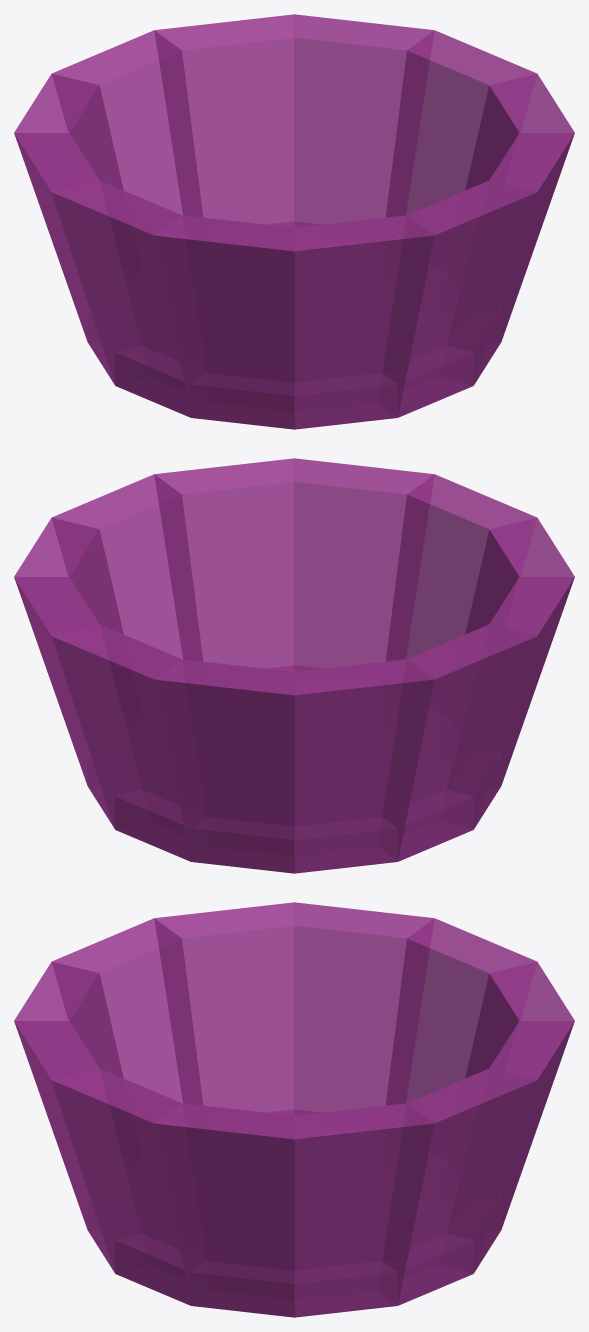
File: SM_Prop_Crows_Nest_03_Collision.fbx
The picture shows the model from 3 angles, top to bottom: view 1: azimuth 30°, elevation 25°; view 2: azimuth 150°, elevation 25°; view 3: azimuth 270°, elevation 25°; orthographic projection.
Parts seen in each view (by area): view 1: SM_Prop_Crows_Nest_03_Collision; view 2: SM_Prop_Crows_Nest_03_Collision; view 3: SM_Prop_Crows_Nest_03_Collision.
Boxes of the visible parts, left/top/right/bottom form: SM_Prop_Crows_Nest_03_Collision: left=14, top=14, right=574, bottom=429; SM_Prop_Crows_Nest_03_Collision: left=14, top=458, right=574, bottom=873; SM_Prop_Crows_Nest_03_Collision: left=14, top=902, right=574, bottom=1317.
Bounding box in the file's own units: 297 × 122 × 297.
